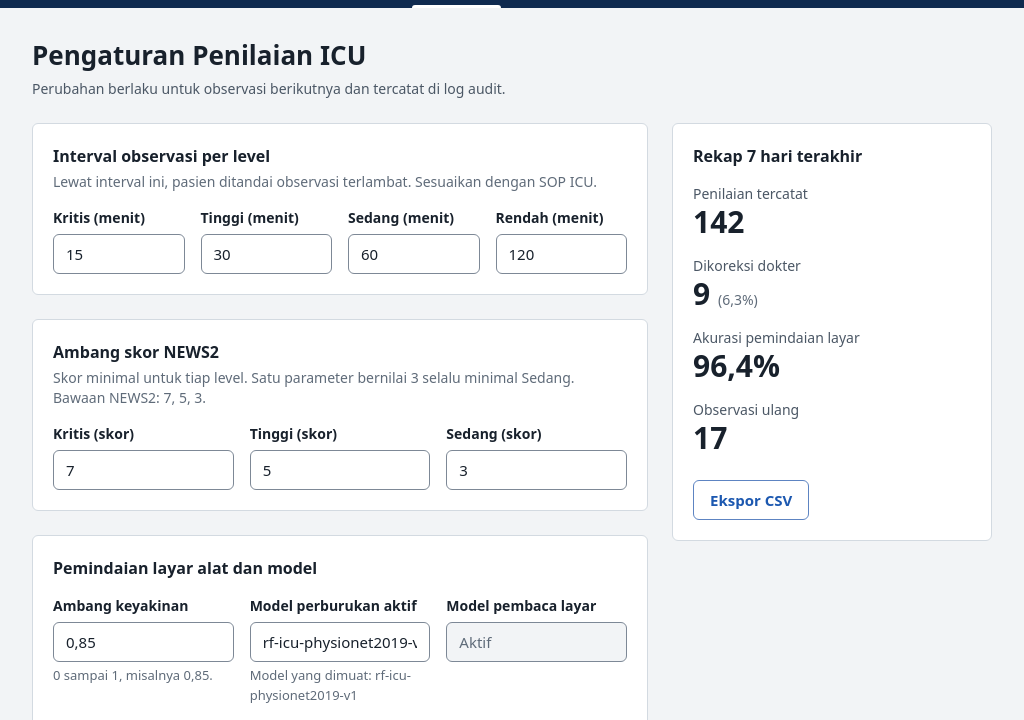
Test case: Pengaturan Penilaian ICU › hanya mengirim kolom yang berubah
Expected: the field showing "rf-icu-physionet2019-v1" is shown, top-left (250, 622), bottom-right (430, 662)
Replace the text in the field labelled "Sedang (menit)" with "25": {"x": 414, "y": 254} top-left (348, 234), bottom-right (480, 274)
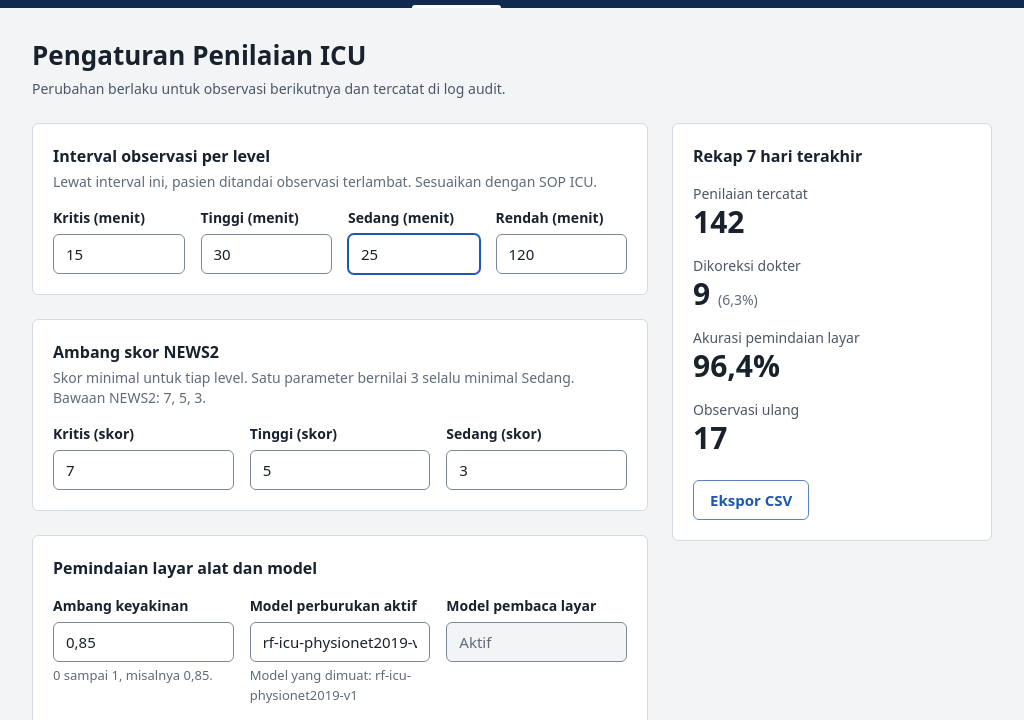
Replace the text in the field labelled "Ambang keyakinan" with "0,9": {"x": 143, "y": 642} top-left (53, 622), bottom-right (234, 662)
(page scrolled)
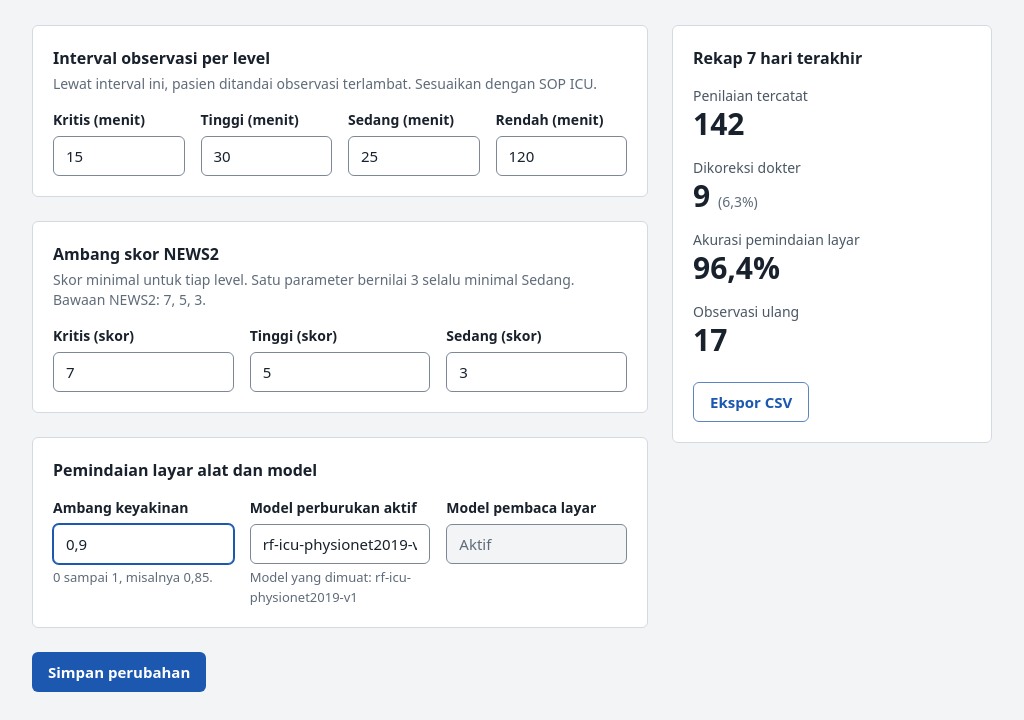
Click the button "Simpan perubahan": {"x": 119, "y": 672} top-left (32, 652), bottom-right (206, 692)
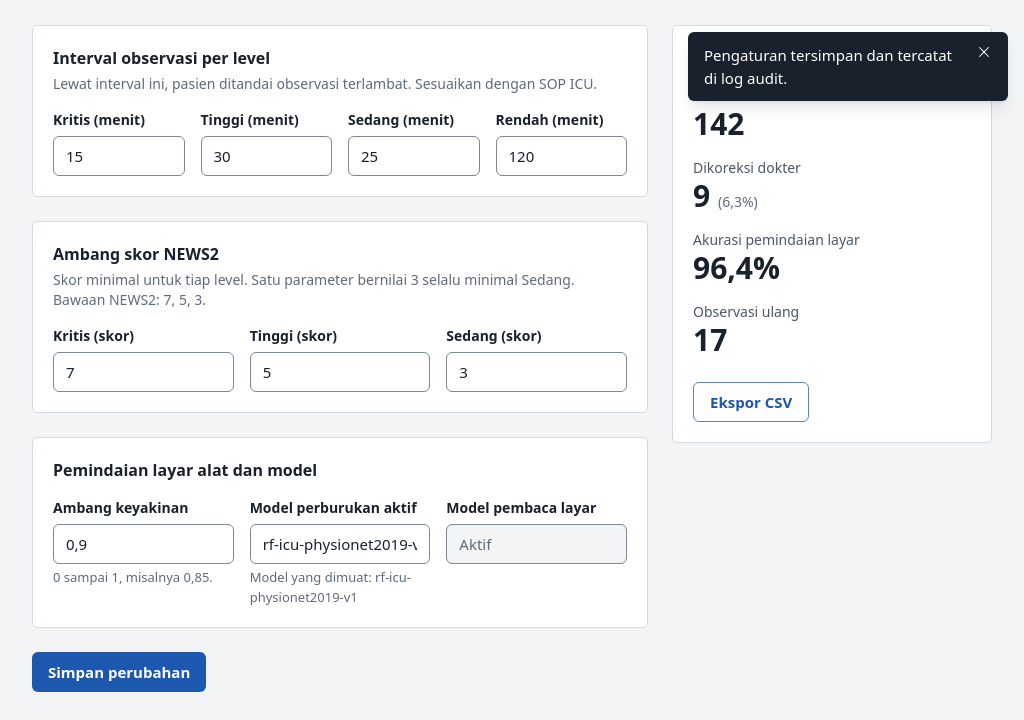
Expected: the text "Pengaturan tersimpan dan tercatat di log audit." is shown, top-left (704, 44), bottom-right (964, 89)
